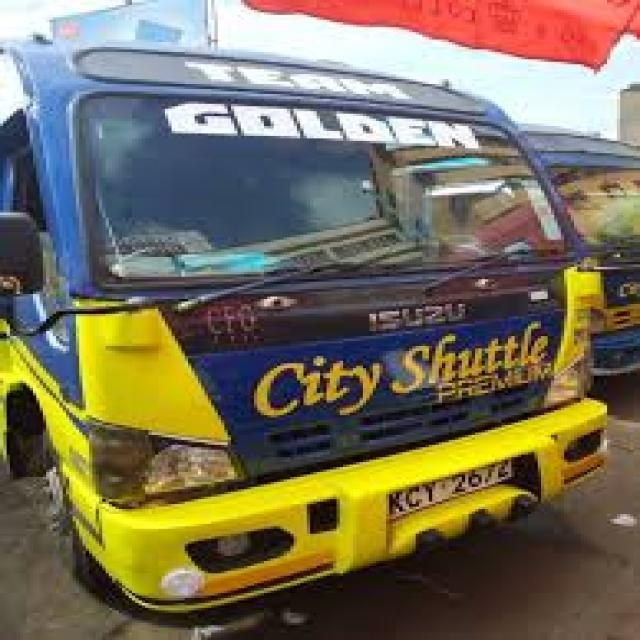bus: (0, 12, 627, 632)
